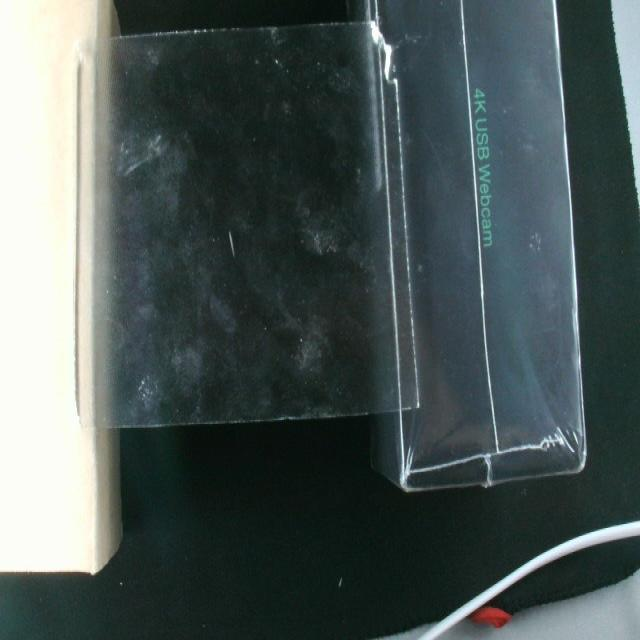edge_chip: (365, 13, 403, 98), (271, 408, 301, 428)
scratch: (225, 225, 241, 263)
